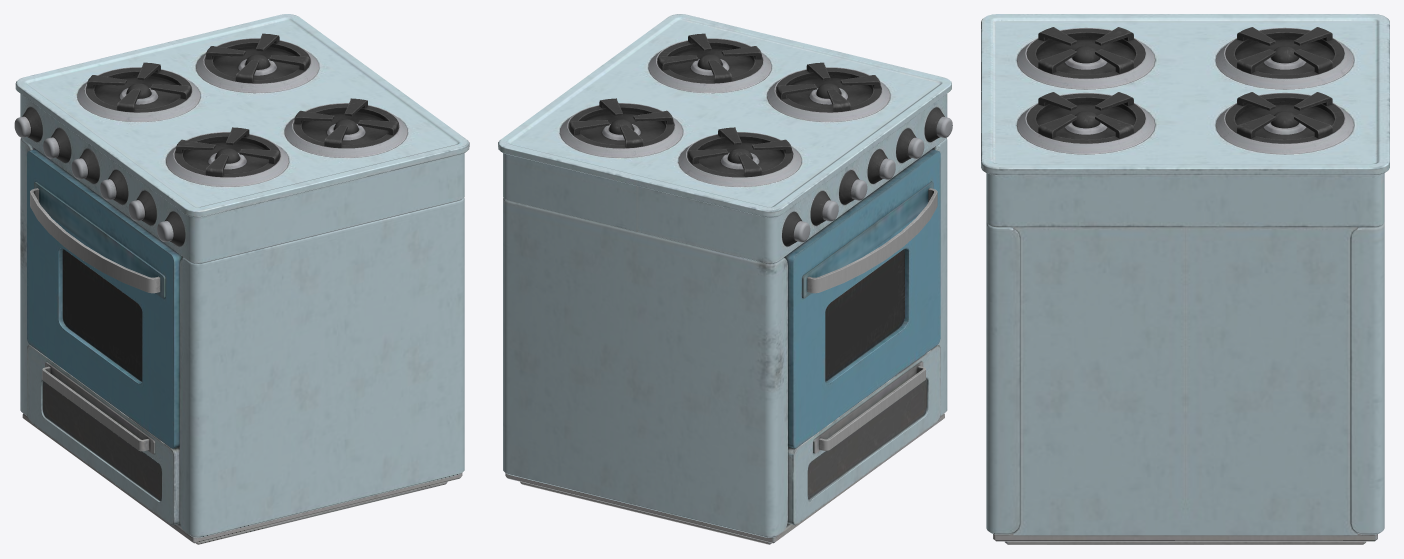
The picture shows the model from 3 angles, left to right: view 1: azimuth 30°, elevation 25°; view 2: azimuth 150°, elevation 25°; view 3: azimuth 270°, elevation 25°; orthographic projection. The views are drawn at different scales.
Visible parts, largest first — view 1: Cube.001, Cube.002, Cube.007, Cylinder, Cube.009, Circle, Cylinder.003, Cube.006, Cube.005, Plane, Cylinder.018, Cylinder.019 (+5 smaller); view 2: Cube.001, Cube.002, Cube.007, Cylinder, Cube.009, Circle, Cylinder.003, Cube.006, Cube.005, Plane, Cylinder.019, Cylinder.018 (+5 smaller); view 3: Cube, Cube.002, Cube.001, Cylinder, Circle, Cube.005, Cylinder.001, Cylinder.018, Cylinder.019, Cylinder.020, Cylinder.002.
Part boxes in pixels (x1,y1,x2,y2): Cube.001: (20, 138, 464, 537); Cube.002: (15, 14, 469, 263); Cube.007: (27, 149, 183, 448); Cylinder: (86, 33, 399, 177); Cube.009: (27, 345, 179, 525); Circle: (77, 38, 407, 186); Cylinder.003: (14, 107, 185, 246); Cube.006: (34, 182, 165, 298); Cube.005: (22, 413, 462, 544); Plane: (30, 188, 160, 293); Cylinder.018: (183, 140, 268, 173); Cylinder.019: (213, 46, 299, 79); Cube.001: (503, 138, 947, 537); Cube.002: (498, 14, 951, 263); Cube.007: (784, 149, 940, 448); Cylinder: (568, 33, 881, 177); Cube.009: (787, 345, 940, 525); Circle: (559, 38, 890, 186); Cylinder.003: (782, 107, 952, 246); Cube.006: (802, 182, 933, 298); Cube.005: (505, 413, 944, 544); Plane: (807, 188, 937, 293); Cylinder.019: (580, 111, 665, 144); Cylinder.018: (787, 75, 872, 108); Cube: (1013, 227, 1357, 535); Cube.002: (981, 14, 1389, 227); Cube.001: (986, 222, 1384, 534); Cylinder: (1026, 27, 1344, 143); Circle: (1016, 27, 1354, 154); Cube.005: (993, 534, 1377, 544); Cylinder.001: (1235, 37, 1334, 74); Cylinder.018: (1036, 37, 1135, 74); Cylinder.019: (1235, 102, 1334, 139); Cylinder.020: (1036, 102, 1135, 139); Cylinder.002: (1072, 46, 1298, 128).
Size of the model in its own units: 0.9217 by 1.01 by 0.9361.
Materials: 2 (2 with a texture image).
